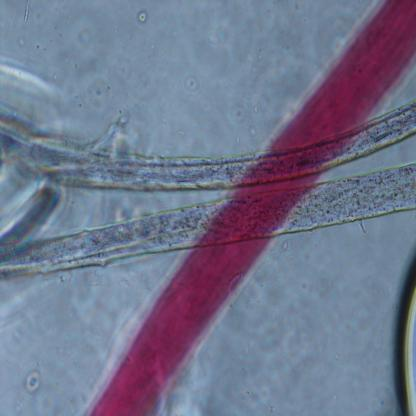Air bubble: (392, 245, 416, 415)
Background material: (0, 70, 76, 130), (104, 105, 146, 155), (98, 193, 155, 222), (16, 368, 43, 397), (180, 69, 203, 95), (15, 0, 37, 26), (129, 7, 149, 28), (228, 104, 245, 128), (208, 25, 224, 49), (244, 120, 258, 138), (252, 102, 259, 116), (281, 242, 288, 253)
Microfibre: (86, 0, 416, 413), (0, 162, 416, 290), (0, 101, 416, 184), (0, 179, 65, 242)
